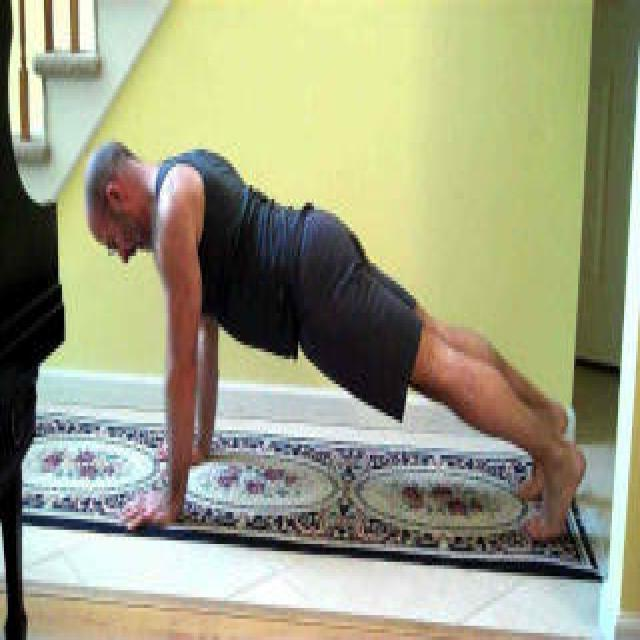yoga-pose plank: (80, 134, 577, 534)
